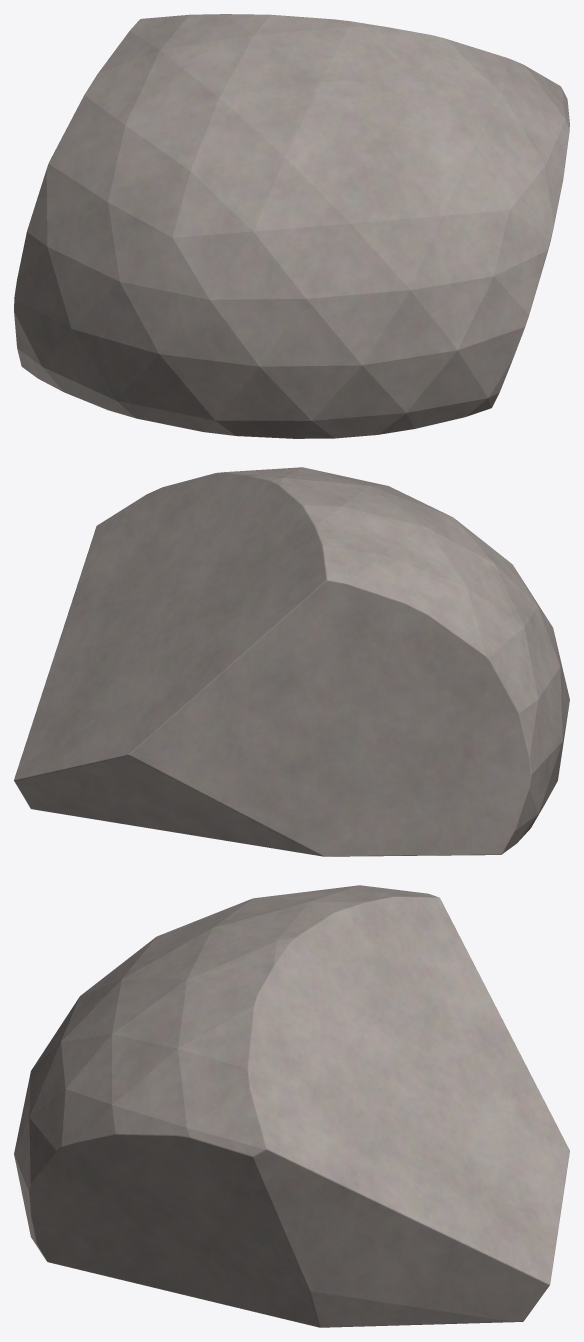
Rendered from boulder_wide.glb.
The picture shows the model from 3 angles, top to bottom: view 1: azimuth 30°, elevation 25°; view 2: azimuth 150°, elevation 25°; view 3: azimuth 270°, elevation 25°; orthographic projection. The views are drawn at different scales.
Parts seen in each view (by area): view 1: boulder_wide; view 2: boulder_wide; view 3: boulder_wide.
Part boxes in pixels (bbox=[...]): boulder_wide: bbox=[14, 14, 569, 438]; boulder_wide: bbox=[14, 467, 569, 856]; boulder_wide: bbox=[14, 885, 569, 1327].
Bounding box in the file's own units: 1.97 × 1.14 × 1.85.
1 material, 1 textured.
